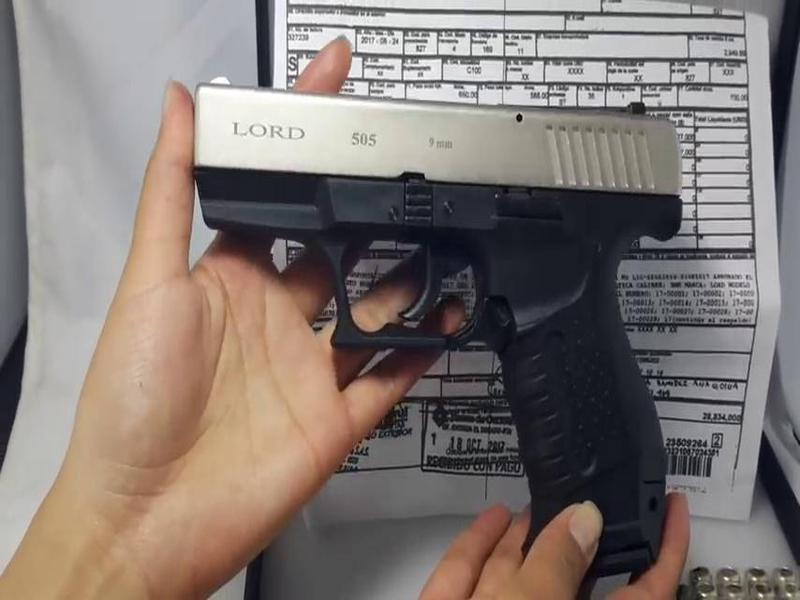Pistola: (166, 64, 704, 590)
